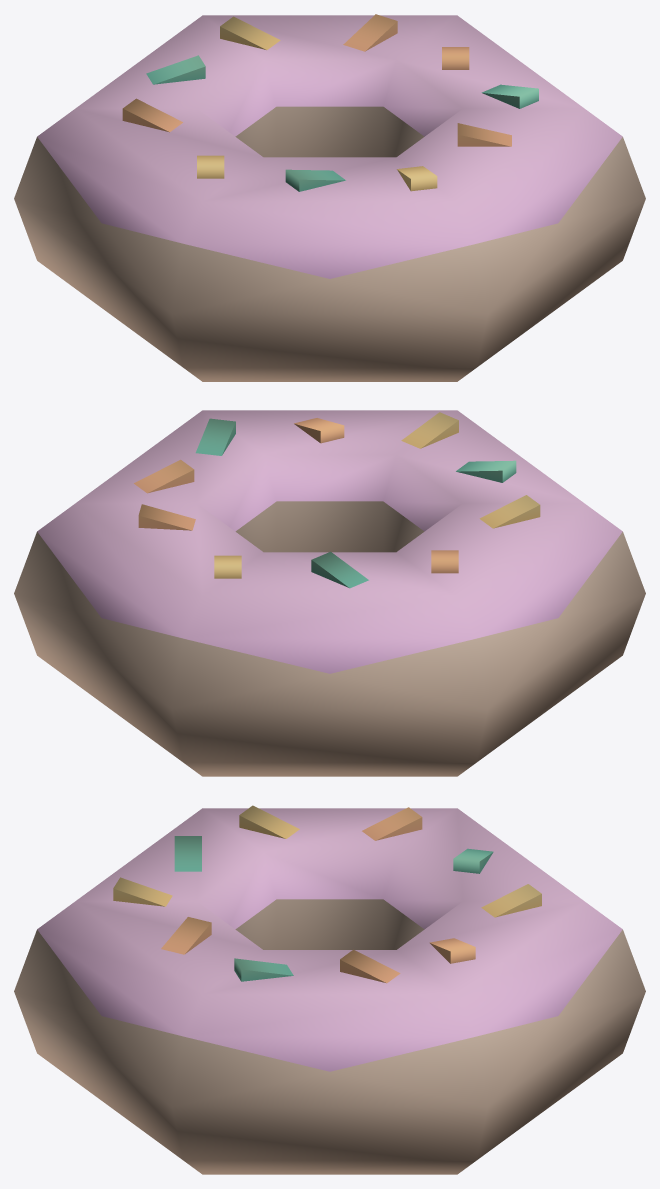
File: donut-sprinkles.glb
The picture shows the model from 3 angles, top to bottom: view 1: azimuth 30°, elevation 25°; view 2: azimuth 150°, elevation 25°; view 3: azimuth 270°, elevation 25°; orthographic projection.
Visible parts, largest first — view 1: donut-sprinkles; view 2: donut-sprinkles; view 3: donut-sprinkles.
Part boxes in pixels (<box>): donut-sprinkles: <box>14,14,645,381</box>; donut-sprinkles: <box>14,410,645,776</box>; donut-sprinkles: <box>14,805,645,1174</box>.
Size of the model in its own units: 0.2451 by 0.095 by 0.283.
